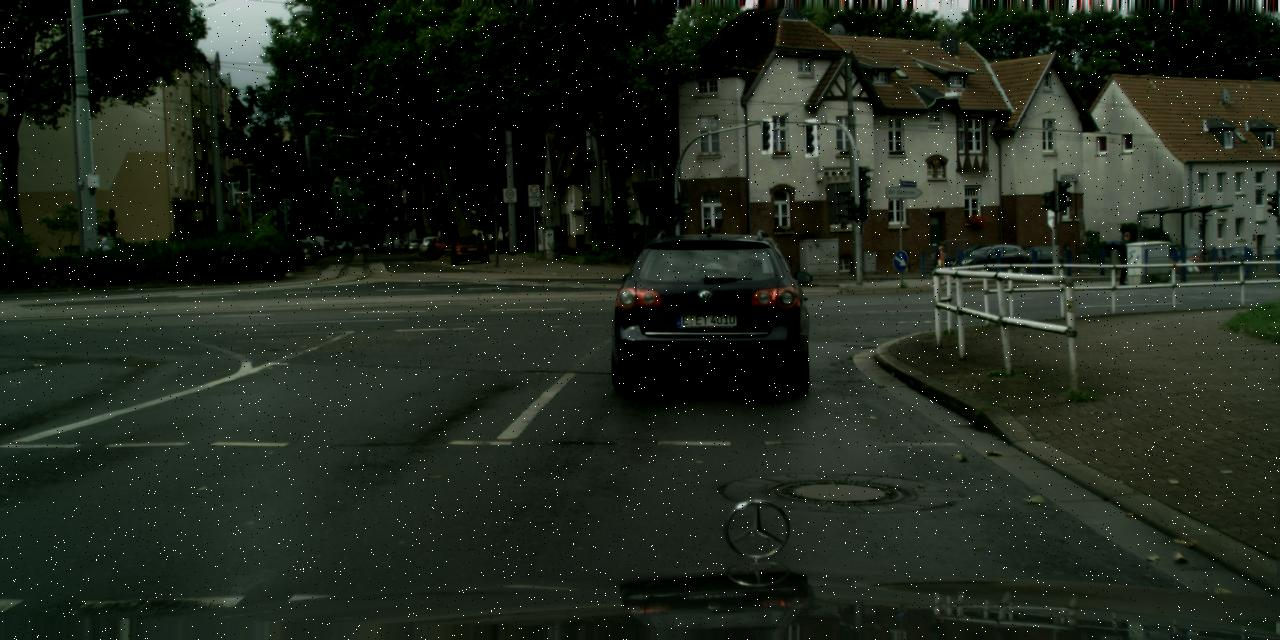ped: (1113, 232, 1135, 284), (932, 240, 949, 284)
